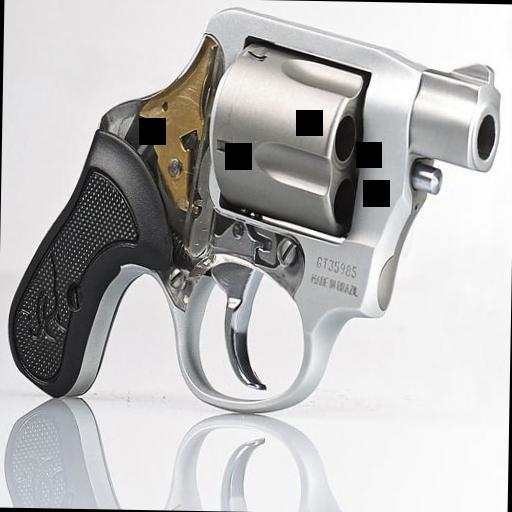Handgun: (2, 2, 506, 416)
